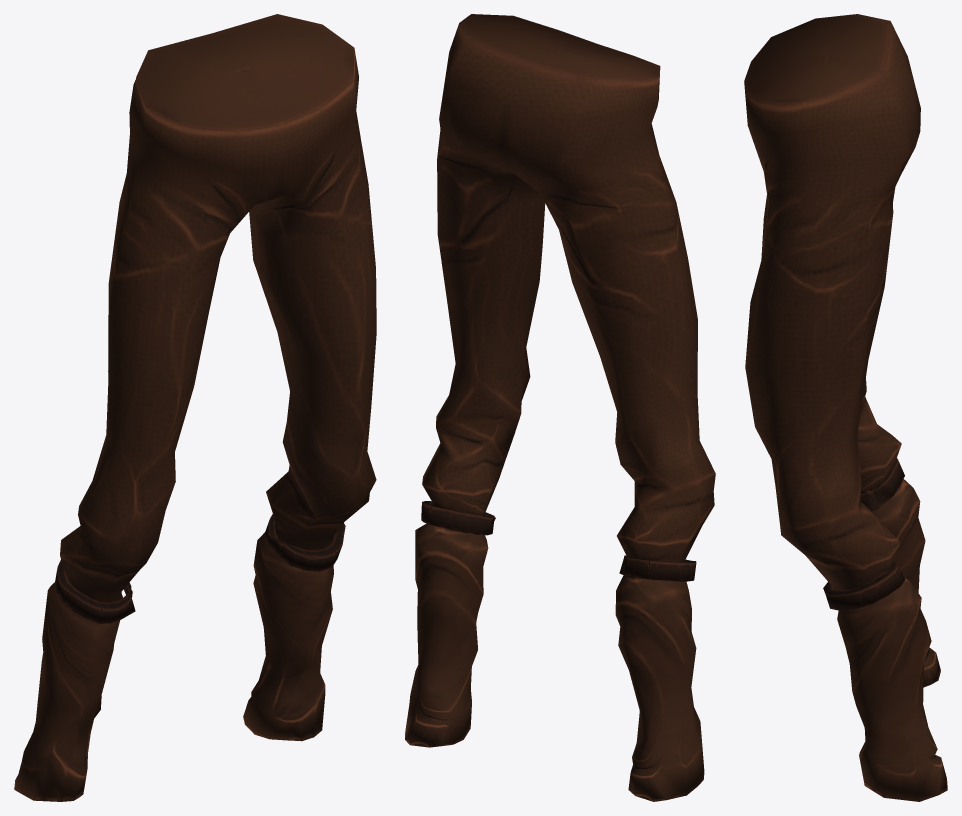
The model's file is Pants.glb.
The picture shows the model from 3 angles, left to right: view 1: azimuth 30°, elevation 25°; view 2: azimuth 150°, elevation 25°; view 3: azimuth 270°, elevation 25°; orthographic projection. The views are drawn at different scales.
Visible parts, largest first — view 1: champion_scarlett_level1_legs.4; view 2: champion_scarlett_level1_legs.4; view 3: champion_scarlett_level1_legs.4.
Part boxes in pixels (x1,y1,x2,y2): champion_scarlett_level1_legs.4: [14, 14, 376, 801]; champion_scarlett_level1_legs.4: [405, 14, 715, 801]; champion_scarlett_level1_legs.4: [744, 14, 947, 801].
Bounding box in the file's own units: 0.3461 × 0.7821 × 0.2032.
Materials: 1 (1 with a texture image).
